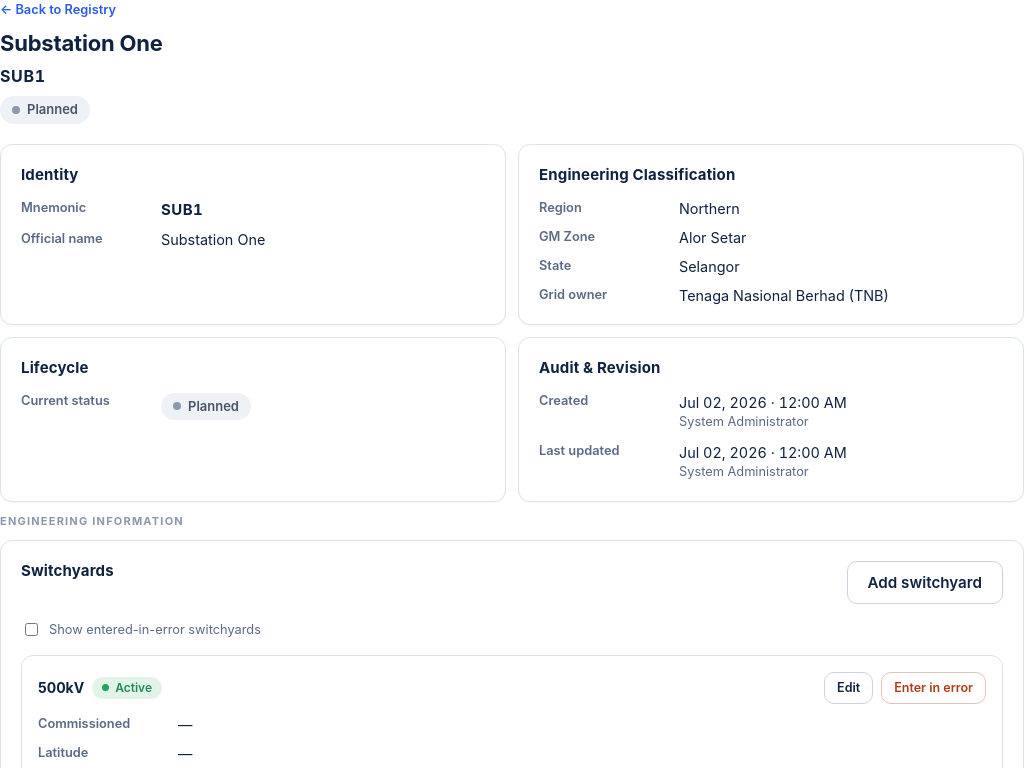
SubstationDetailPage › lets a user with equipment_registry.write mark a switchyard as Entered in Error
Click the button with aria-label "Mark 500kV switchyard as entered in error" at point(934, 688), box [881,672,986,704]
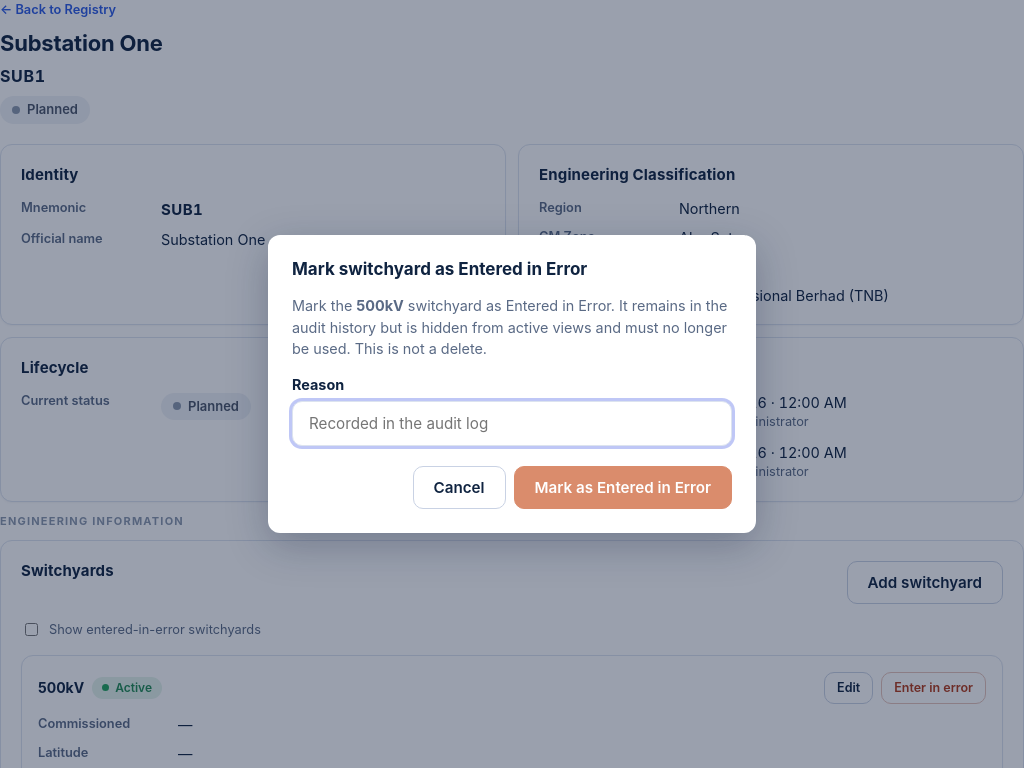
Type "Created against the wrong substation" into the field labelled "Reason" at point(512, 423), box [307,401,717,446]
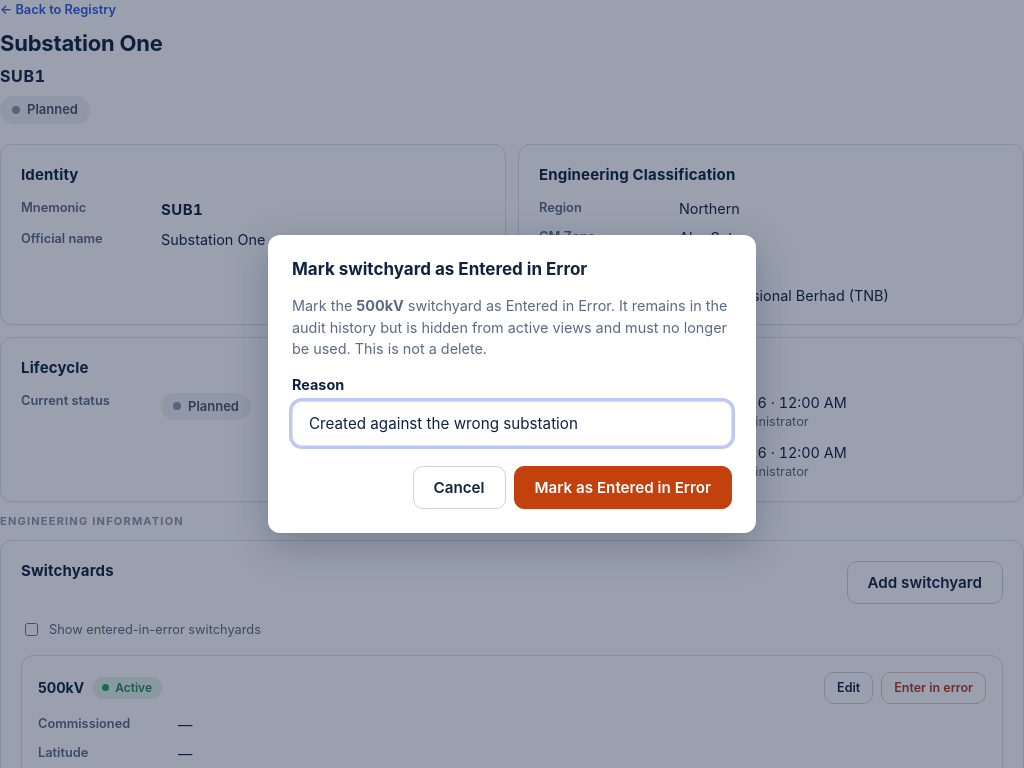
Click the button "Mark as Entered in Error" at point(623, 487), box [514,466,732,509]
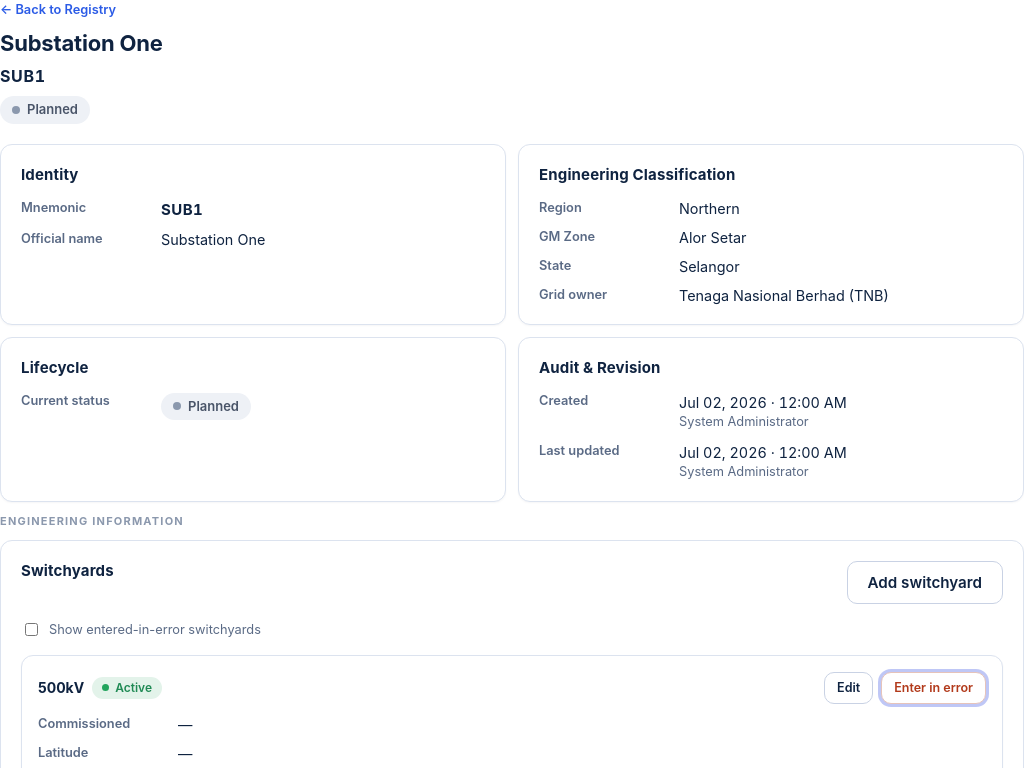
Expected: the button "delete" is gone
